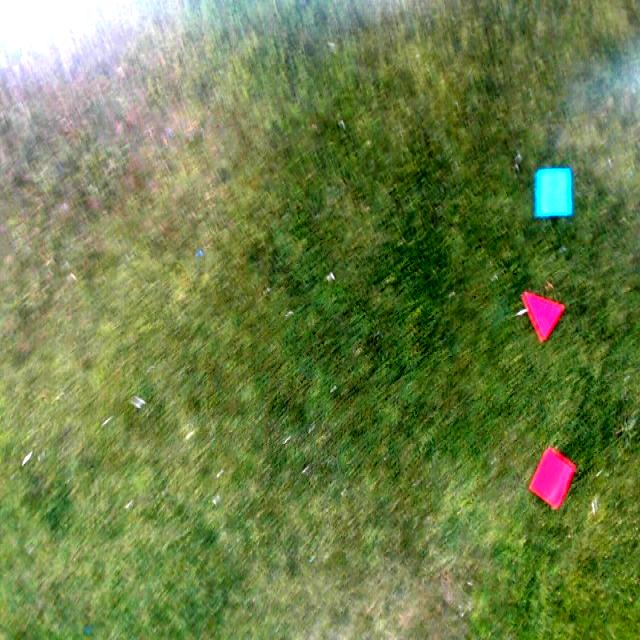blue_square: (537, 168, 572, 216)
red_square: (530, 447, 574, 509)
red_triangle: (524, 288, 564, 342)
